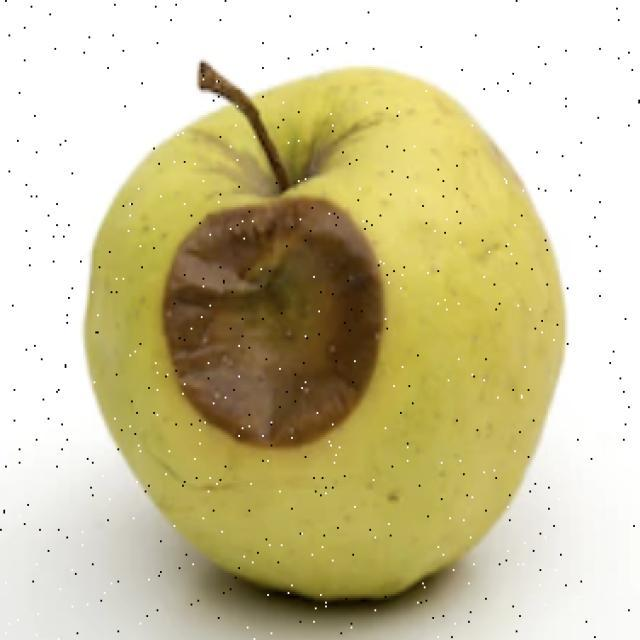Rotten: (89, 65, 584, 640)
